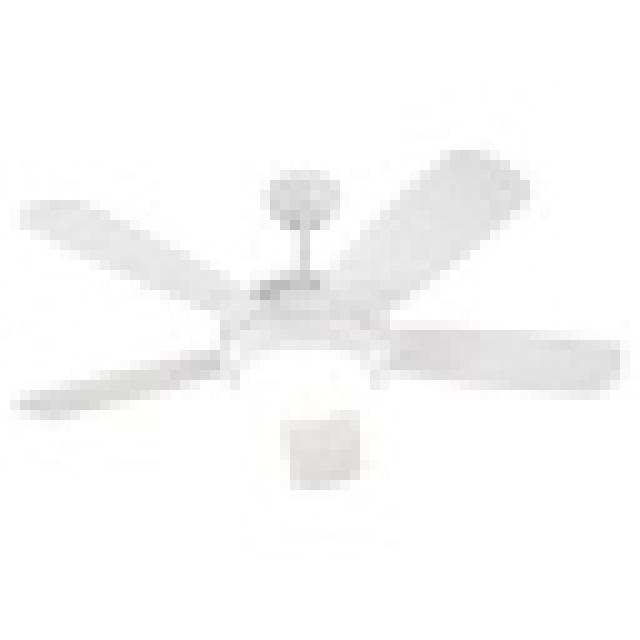Bulb: (20, 130, 640, 490)
